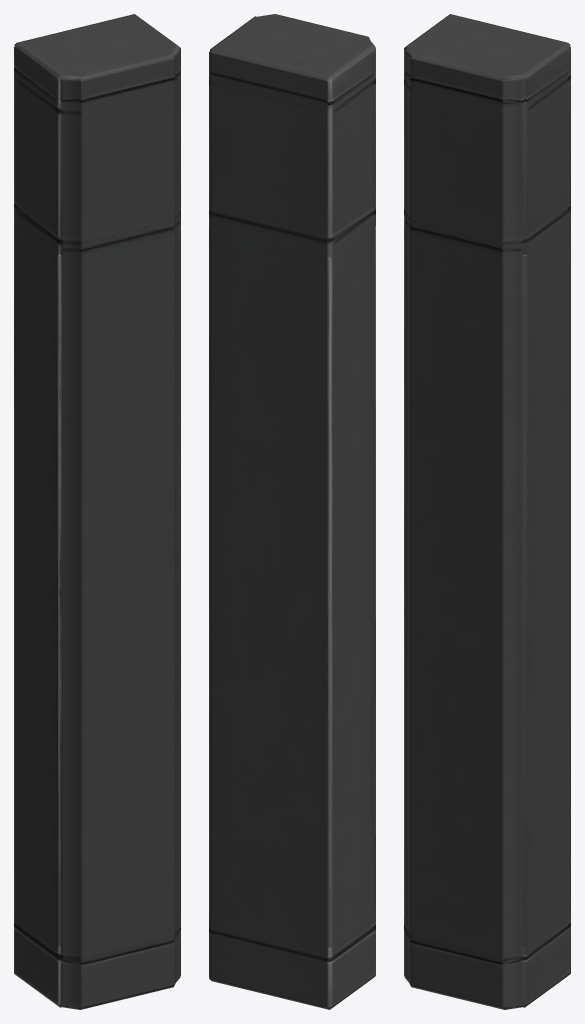
Rendered from Meshy_AI_blok_0107204904_texture.fbx.
3 renders of one model, left to right at view 1: azimuth 30°, elevation 25°; view 2: azimuth 150°, elevation 25°; view 3: azimuth 330°, elevation 25°, orthographic.
Visible parts, largest first — view 1: Mesh_0; view 2: Mesh_0; view 3: Mesh_0.
Part boxes in pixels (x1,y1,x2,y2): Mesh_0: (14,14,180,1009); Mesh_0: (209,14,375,1009); Mesh_0: (404,14,570,1009).
Size of the model in its own units: 26.22 by 191 by 19.96.
Materials: 1 (1 with a texture image).
